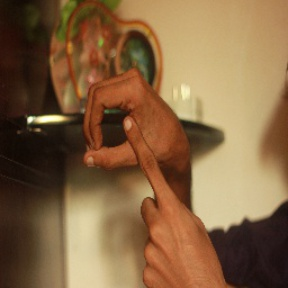Q: (80, 67, 204, 228)
